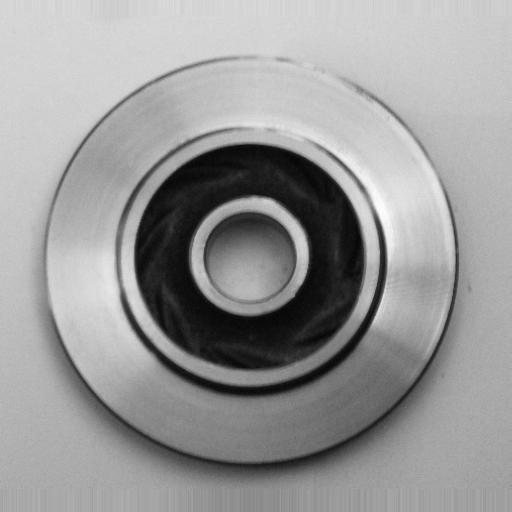scratch: (227, 116, 330, 150)
unpolished_casting: (44, 52, 455, 469)
